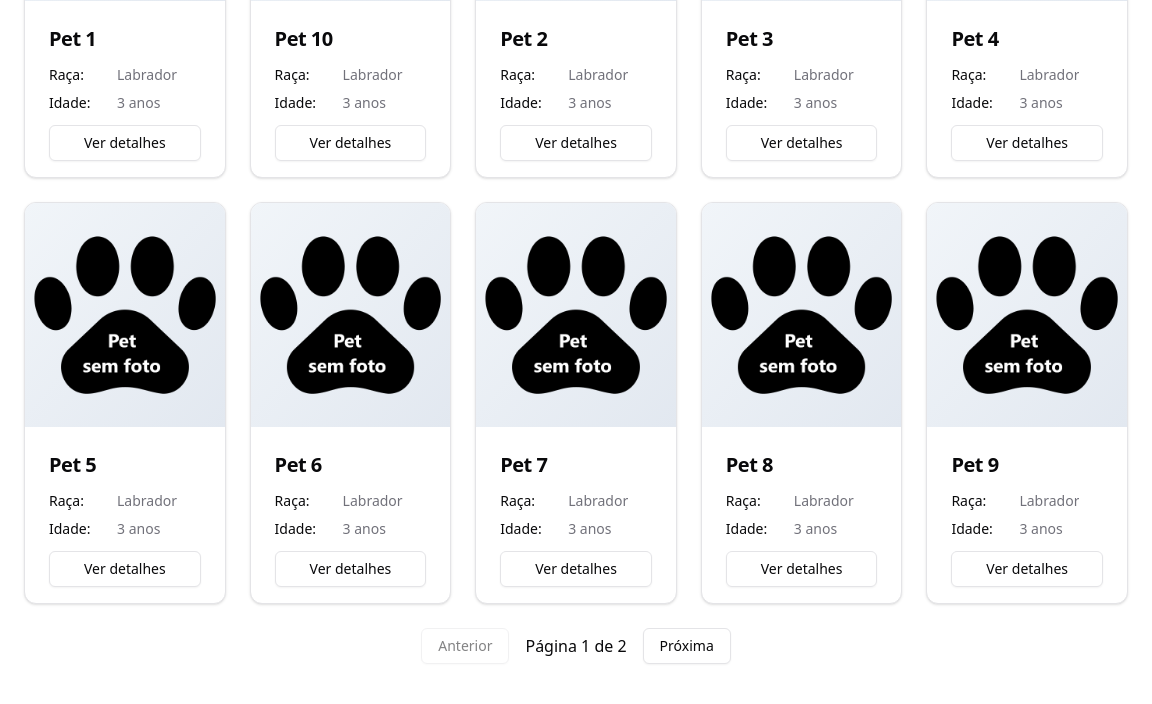
Test: PetsLista › paginação funciona - botão próxima página
(page scrolled)
Check: the text "Pet 1" is shown, box [49,25,96,52]
Check: the text "Página 1 de 2" is shown, box [518,628,635,664]
Note: Clicar em próxima
Click the button "Próxima" at (687, 646), box [643,628,731,664]
(page scrolled)
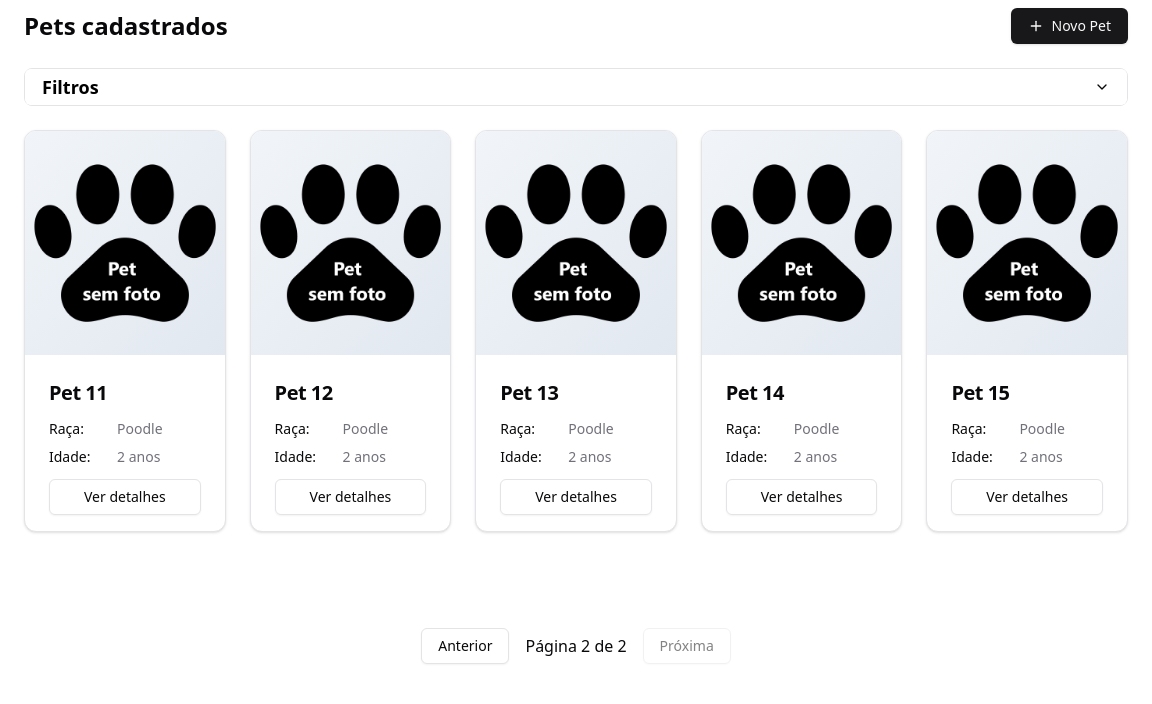
Check: the text "Pet 11" is shown, box [49,379,107,406]
Check: the text "Página 2 de 2" is shown, box [518,628,635,664]
